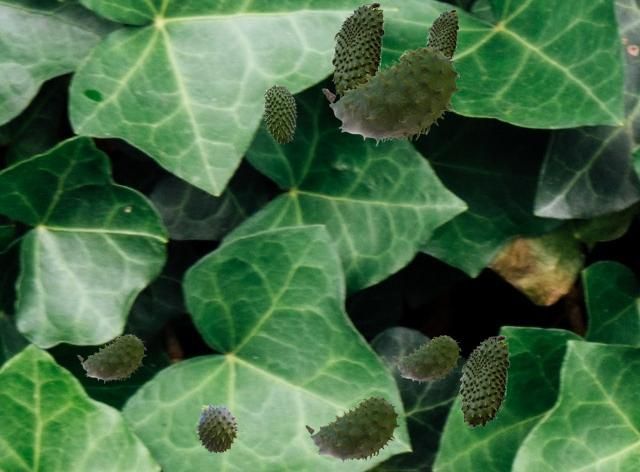guyabano: (322, 46, 460, 145), (305, 396, 399, 463), (331, 2, 384, 98), (459, 335, 509, 427), (77, 334, 145, 382), (392, 335, 460, 383), (193, 403, 242, 452), (263, 84, 296, 143), (426, 9, 458, 59)
